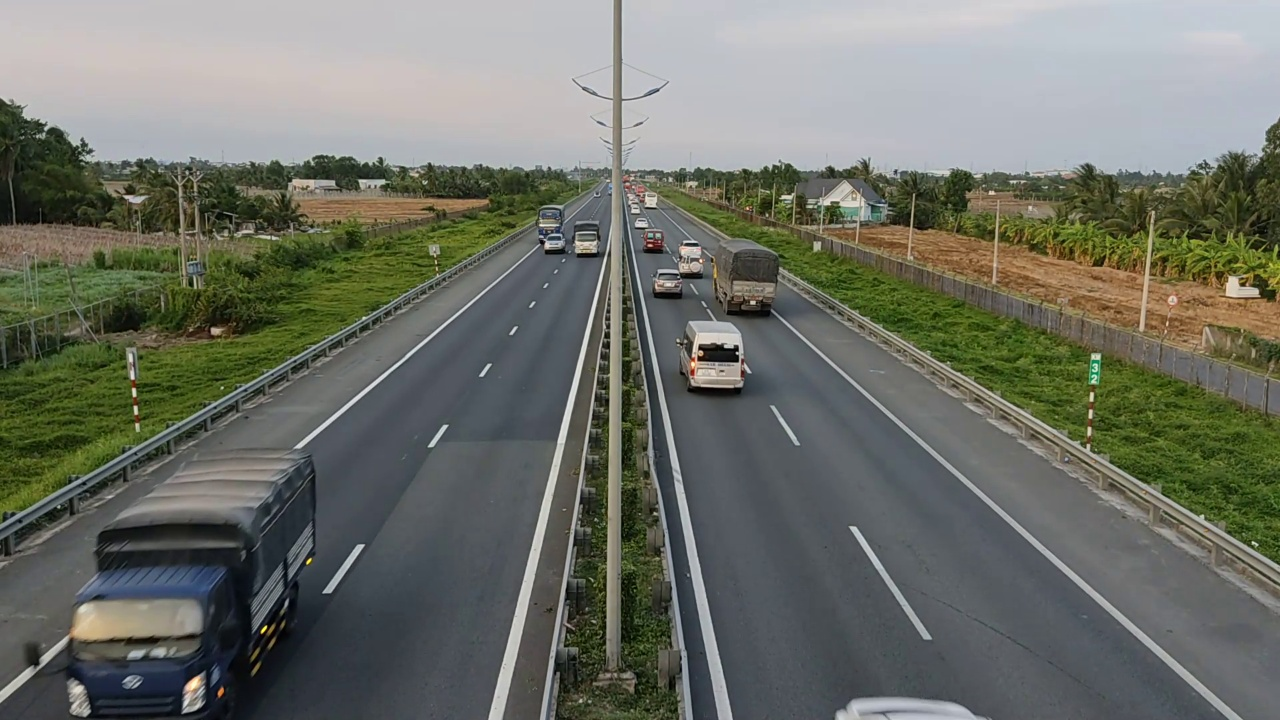bus: (713, 237, 779, 314)
car: (677, 316, 750, 398), (677, 241, 707, 277), (651, 269, 683, 297), (643, 230, 667, 253)
truck: (65, 445, 318, 719)
